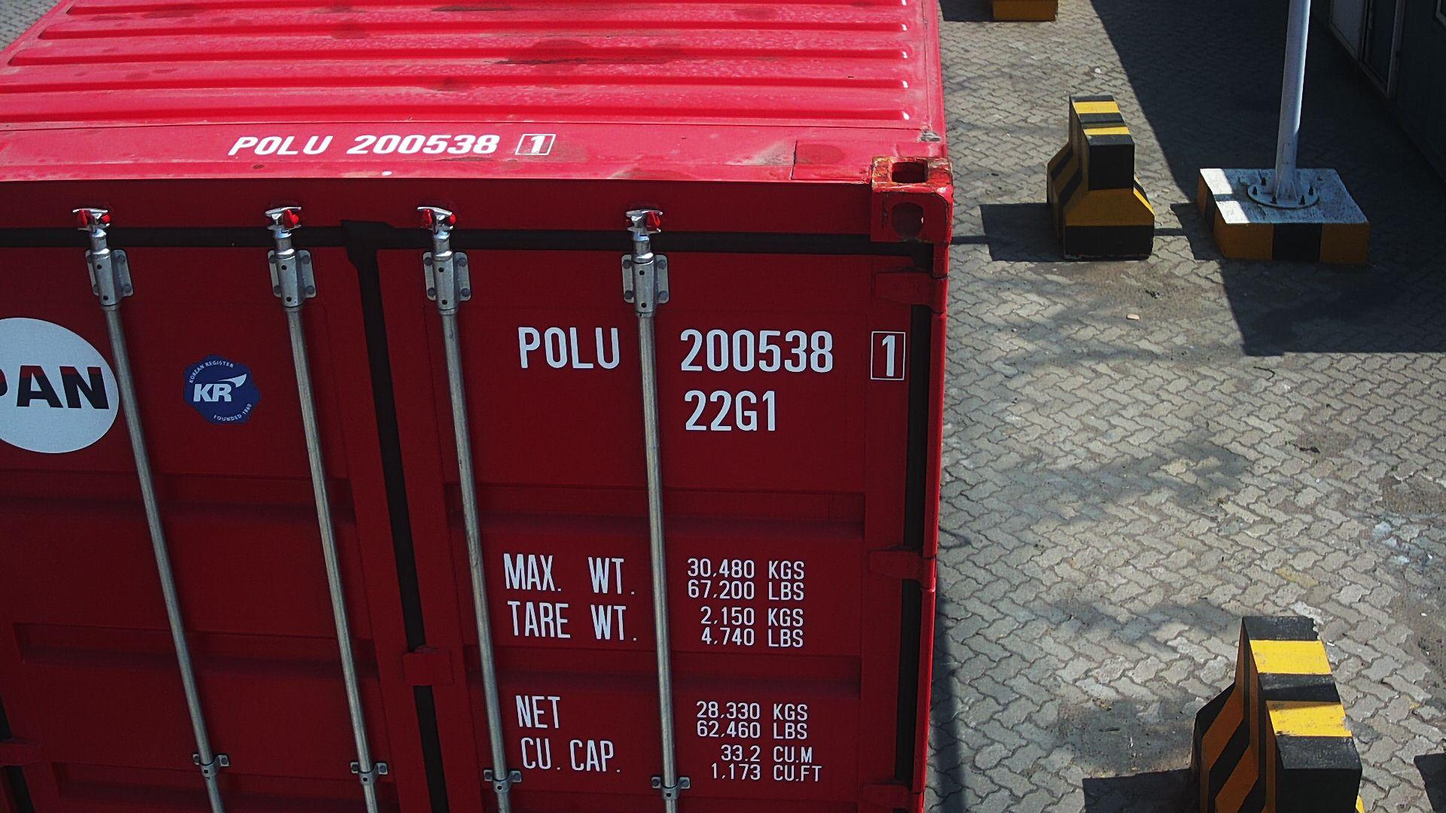container-numbers: (514, 322, 913, 381), (218, 129, 560, 160), (681, 386, 782, 436)
